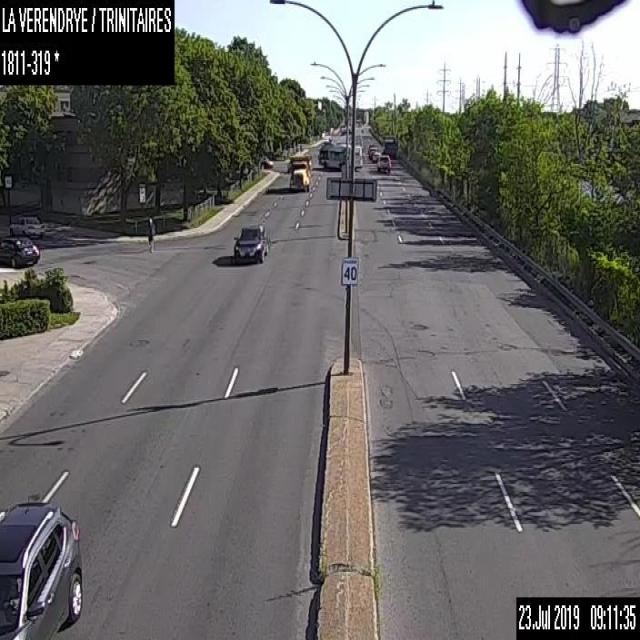bus: (317, 140, 362, 169)
pedestrian: (146, 216, 154, 252)
vehicle: (0, 498, 83, 638), (232, 222, 268, 263), (0, 233, 40, 268), (288, 153, 312, 191), (7, 215, 45, 237), (382, 137, 397, 158), (376, 153, 391, 173), (260, 157, 273, 168), (367, 142, 377, 154), (372, 150, 381, 162), (368, 146, 377, 157)
